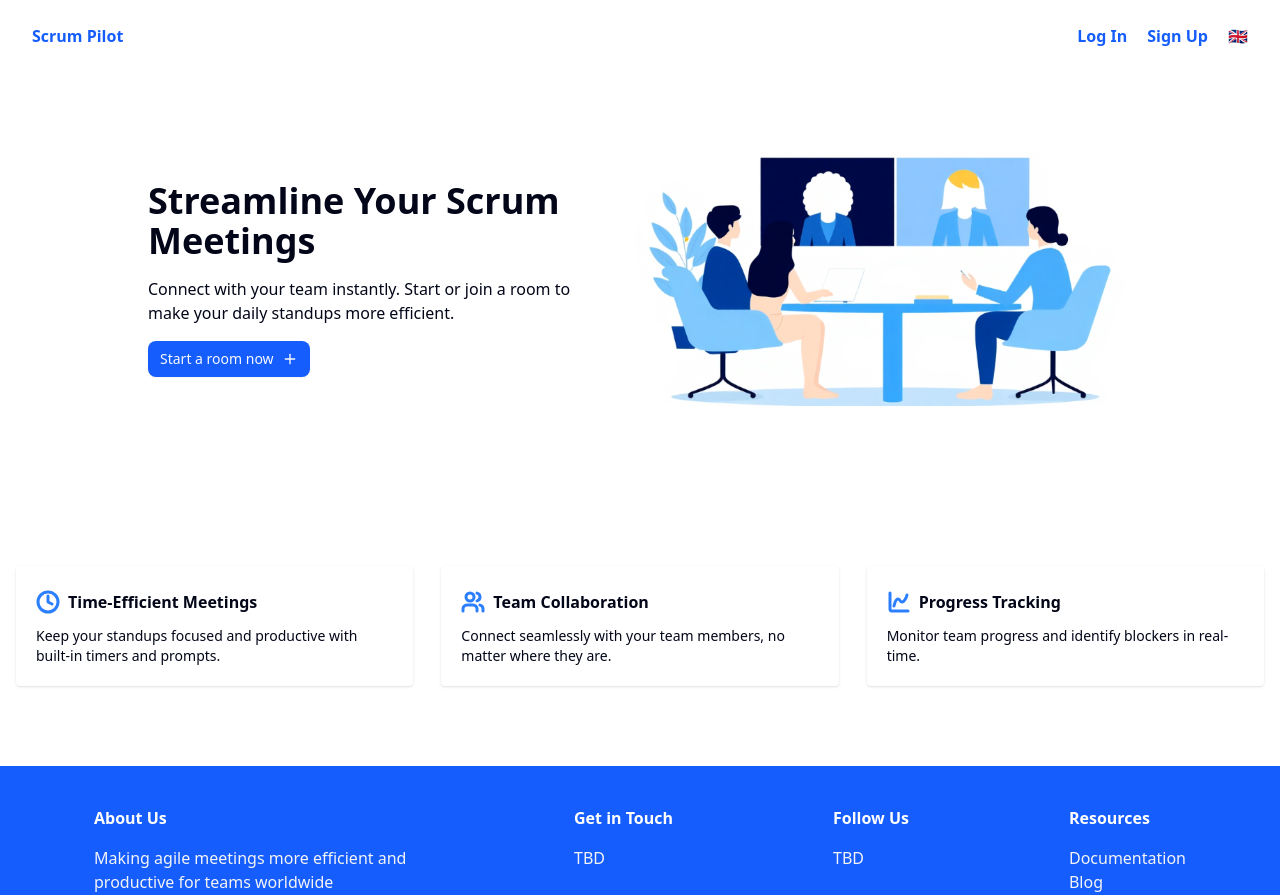
Language selection › should change the page language on dropdown item click
Click the button with test id "language-button": (1238, 36) [1228, 24, 1248, 48]
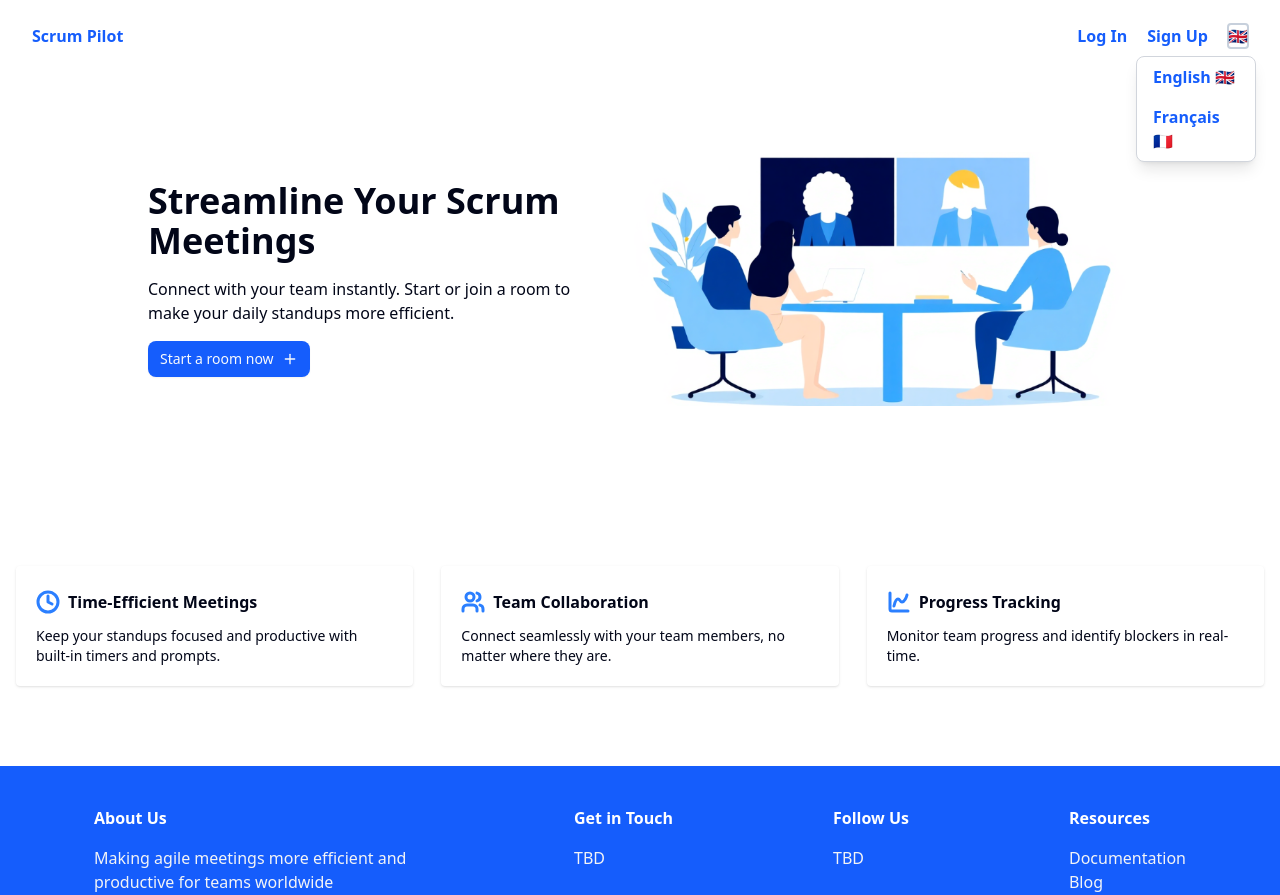
Click the button with test id "language-list-items" showing "Français 🇫🇷": (1196, 129) [1137, 97, 1255, 161]
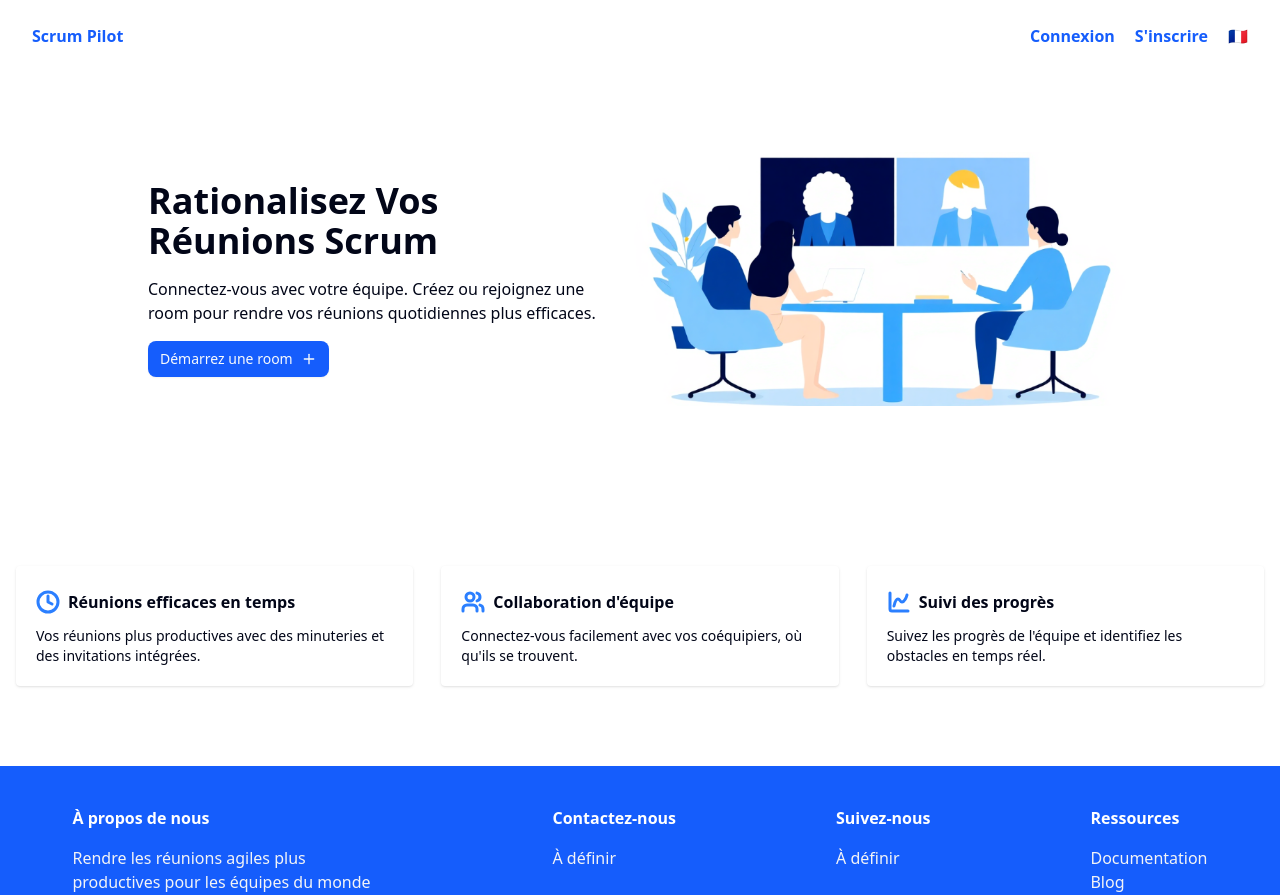
Result: the link with test id "menu-items" reads "Connexion" at [1030, 25, 1115, 47]
